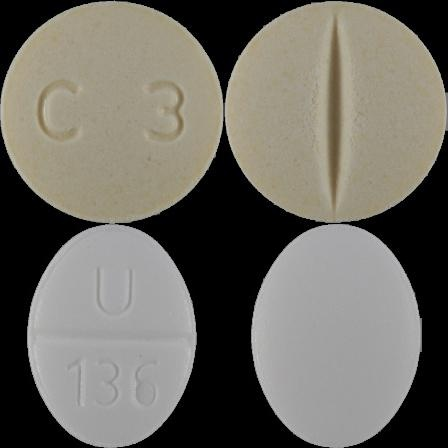61786-465: (0, 0, 224, 224)
